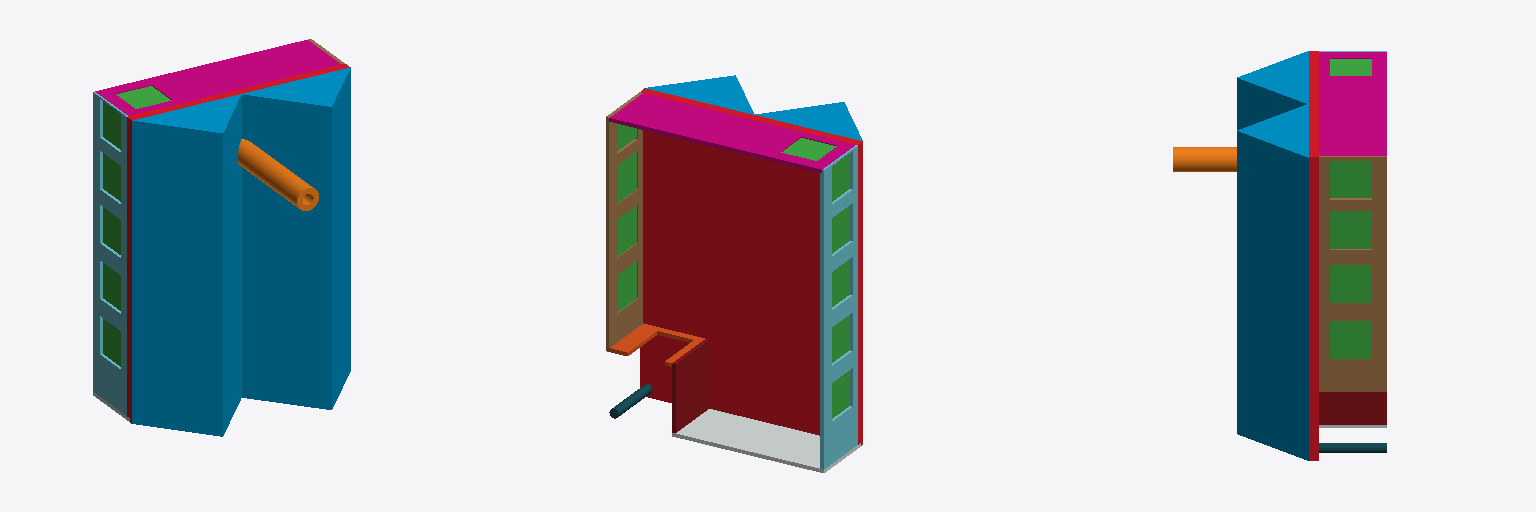
The model's file is tinker.obj.
3 renders of one model, left to right at view 1: azimuth 30°, elevation 25°; view 2: azimuth 150°, elevation 25°; view 3: azimuth 270°, elevation 25°, orthographic.
Visible parts, largest first — view 1: obj_0; view 2: obj_0; view 3: obj_0.
Part boxes in pixels (left/top/right/bottom): obj_0: left=93, top=39, right=350, bottom=436; obj_0: left=606, top=75, right=862, bottom=472; obj_0: left=1173, top=51, right=1386, bottom=460.
Size of the model in its own units: 120 by 158 by 101.